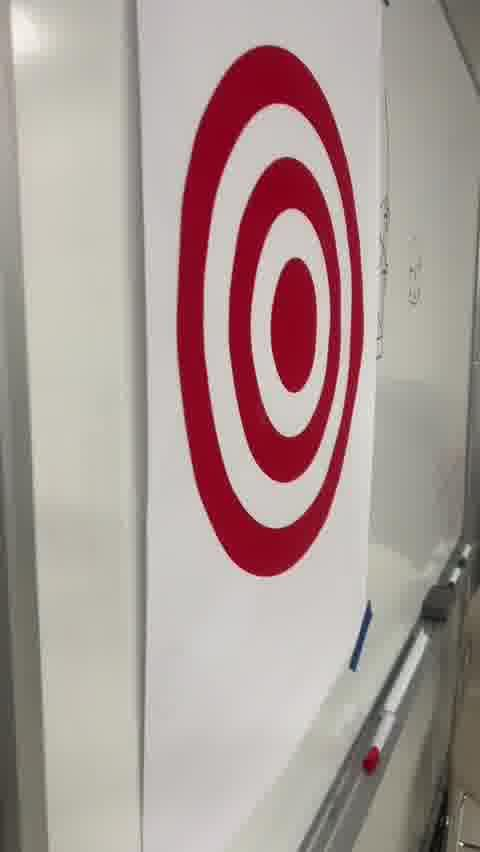target_red: (175, 43, 366, 577)
